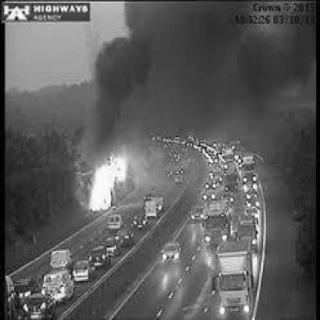Smoke: (94, 0, 304, 129)
